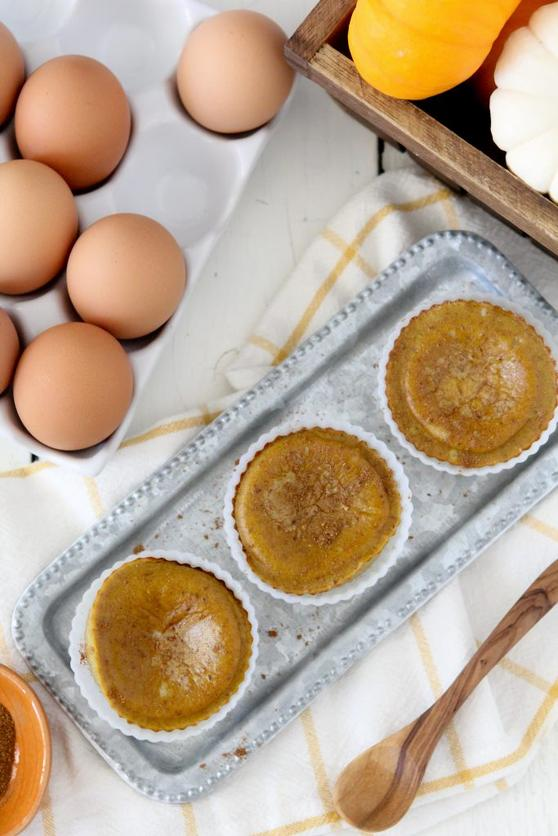egg: (61, 215, 195, 342), (12, 57, 139, 188), (17, 322, 135, 459), (181, 10, 297, 144)
